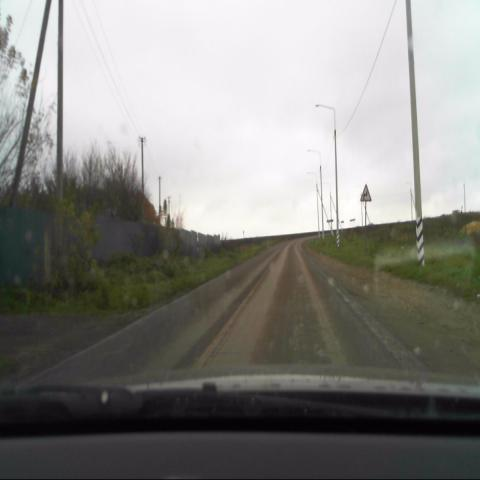1_12: (359, 183, 372, 203)
